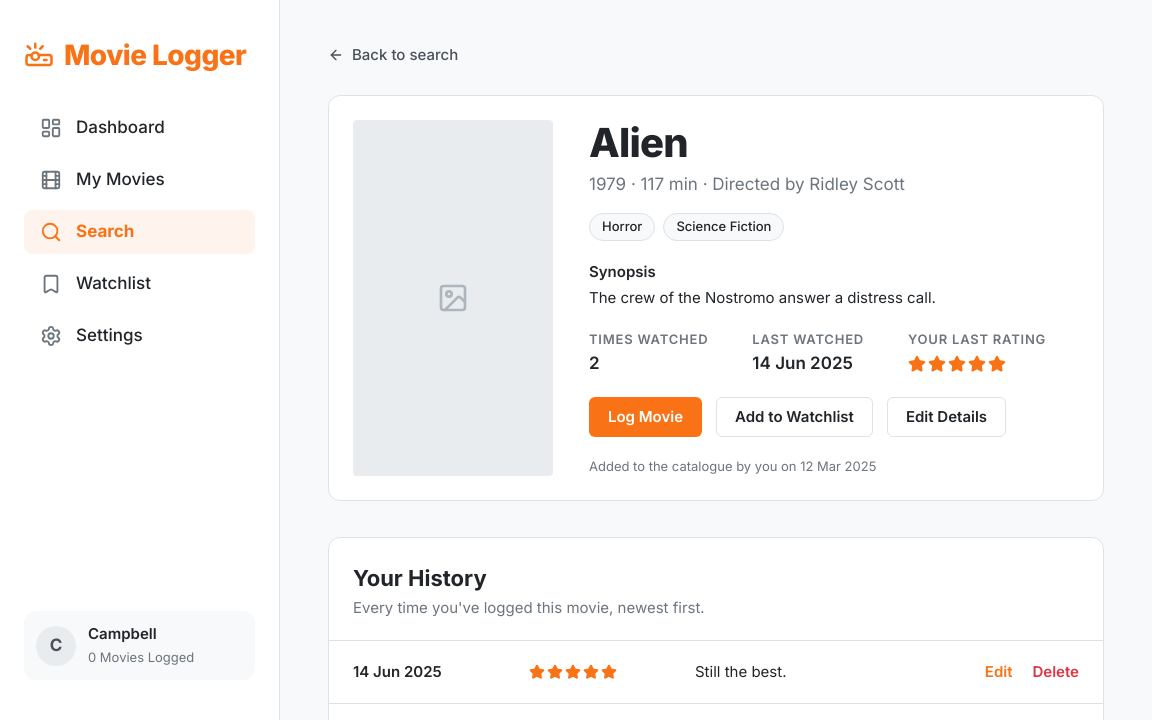
Movie details page › closes the dialog with Escape
This screenshot has width=1152, height=720.
Click the button with aria-label "Delete log from 14 Jun 2025".
click(1056, 672)  # box x1=1032 y1=660 x2=1079 y2=683
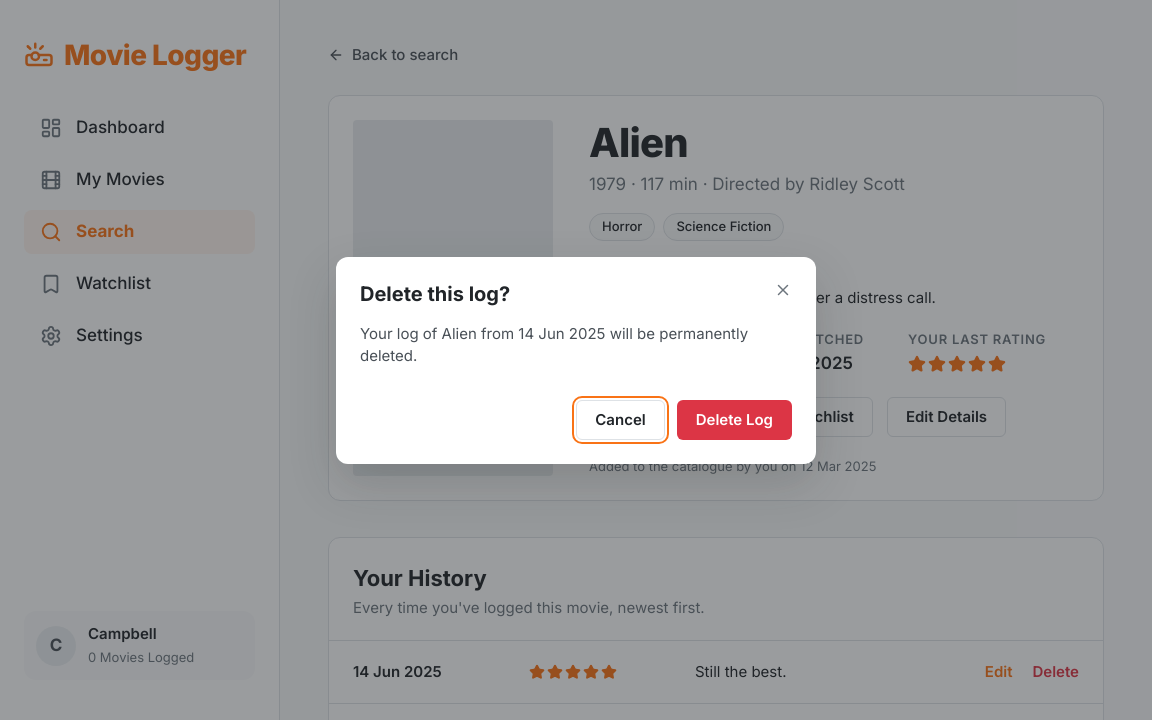
Press Escape
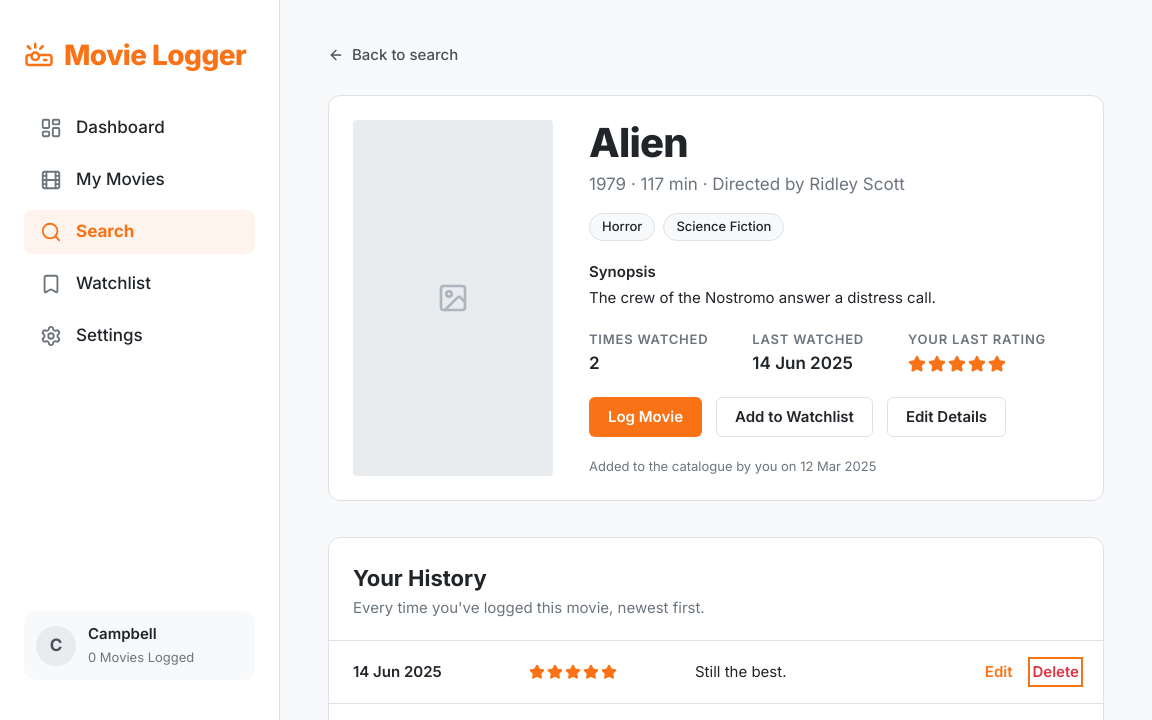
Check: the dialog is gone
